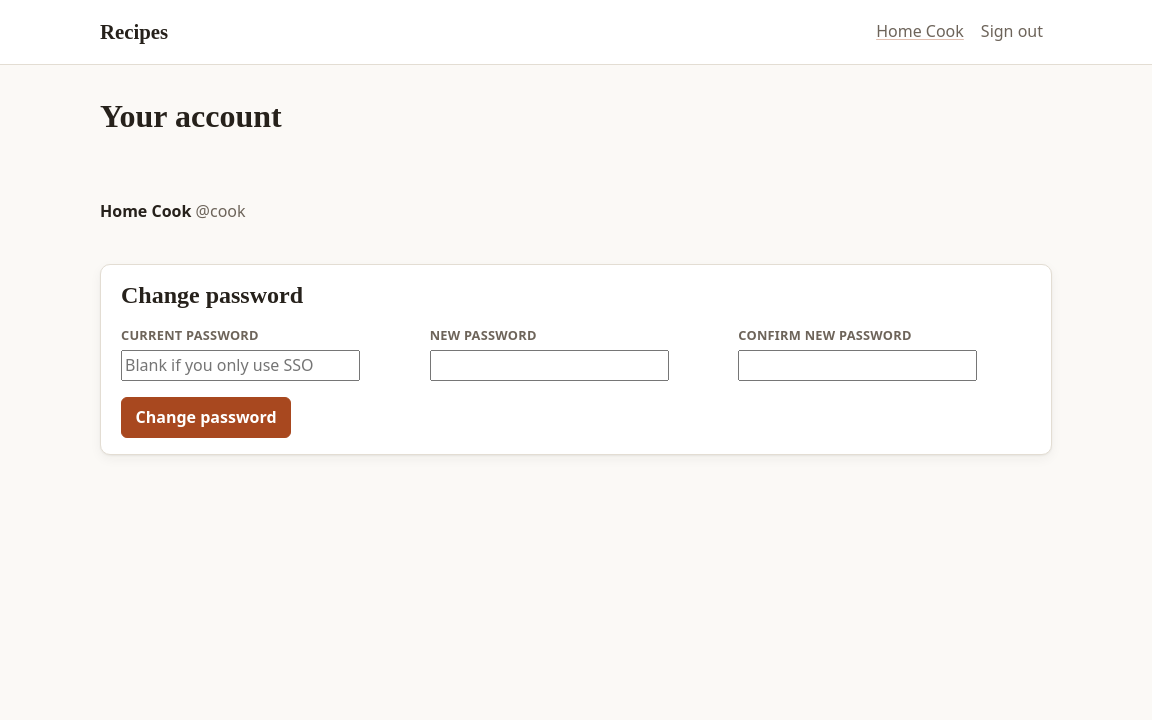
Test: account page › changes your password
This screenshot has width=1152, height=720.
Type "old-password" into the password field labelled "Current password".
click(240, 366); type("old-password")  # box [121,350,360,381]
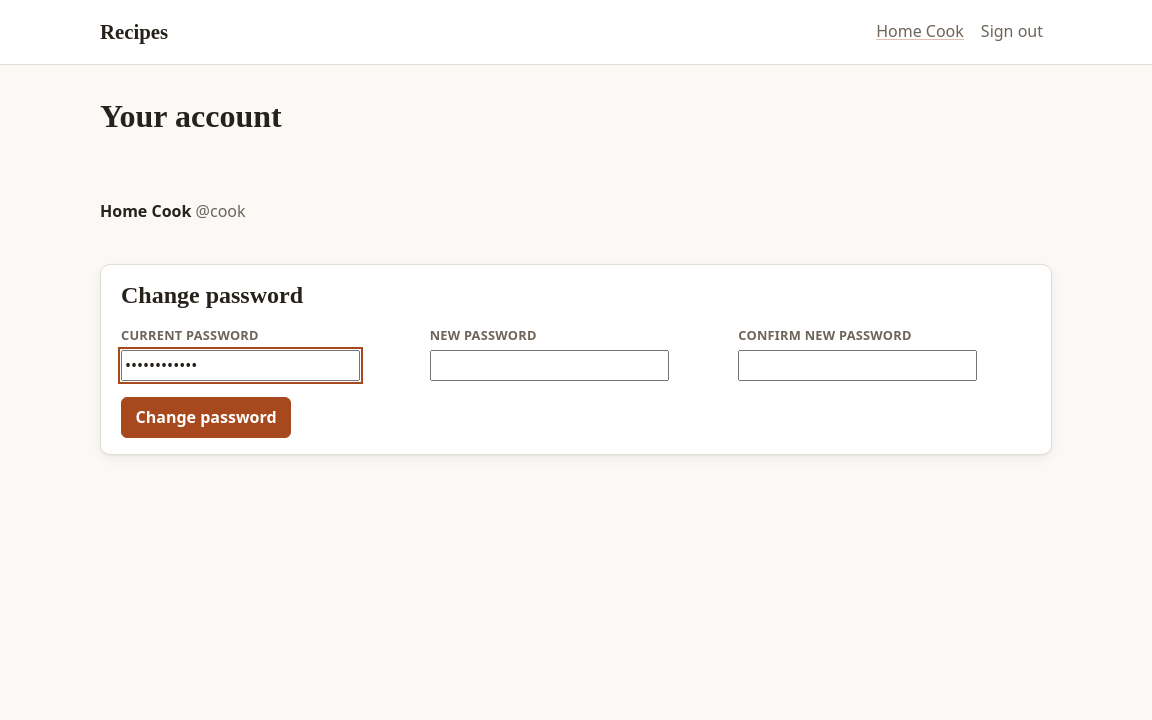
Type "n3w-password" into the password field labelled "New password".
click(549, 366); type("n3w-password")  # box [430,350,669,381]
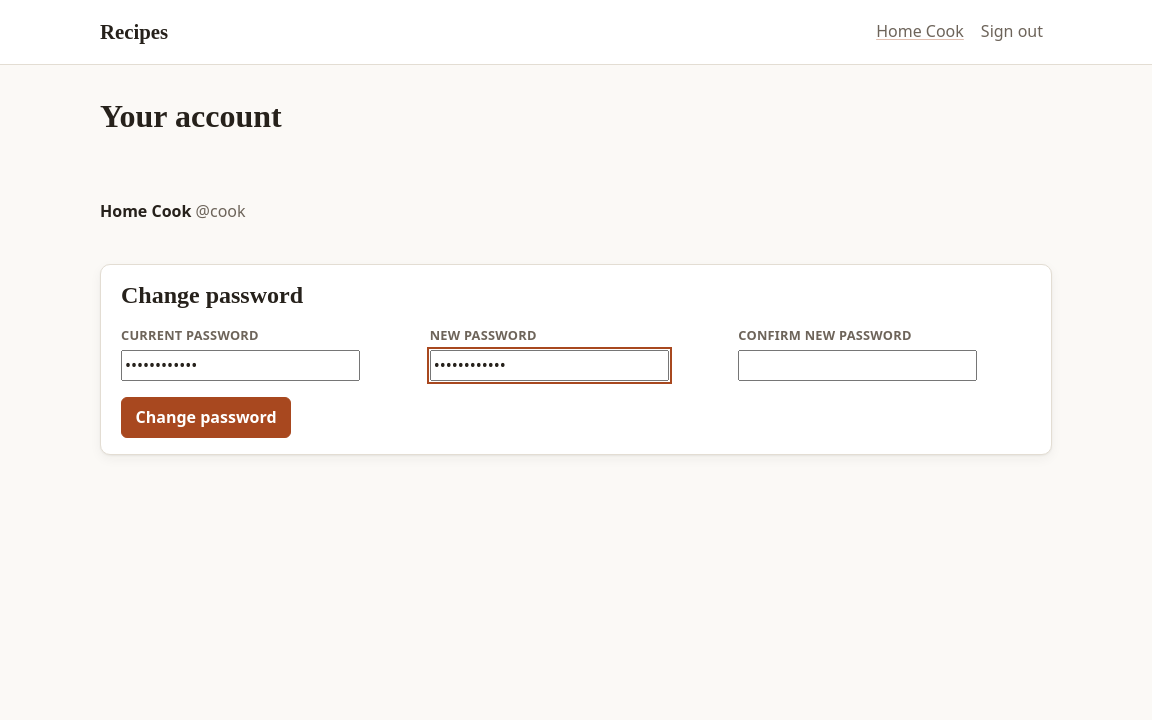
Type "n3w-password" into the password field labelled "Confirm new password".
click(858, 366); type("n3w-password")  # box [738,350,977,381]
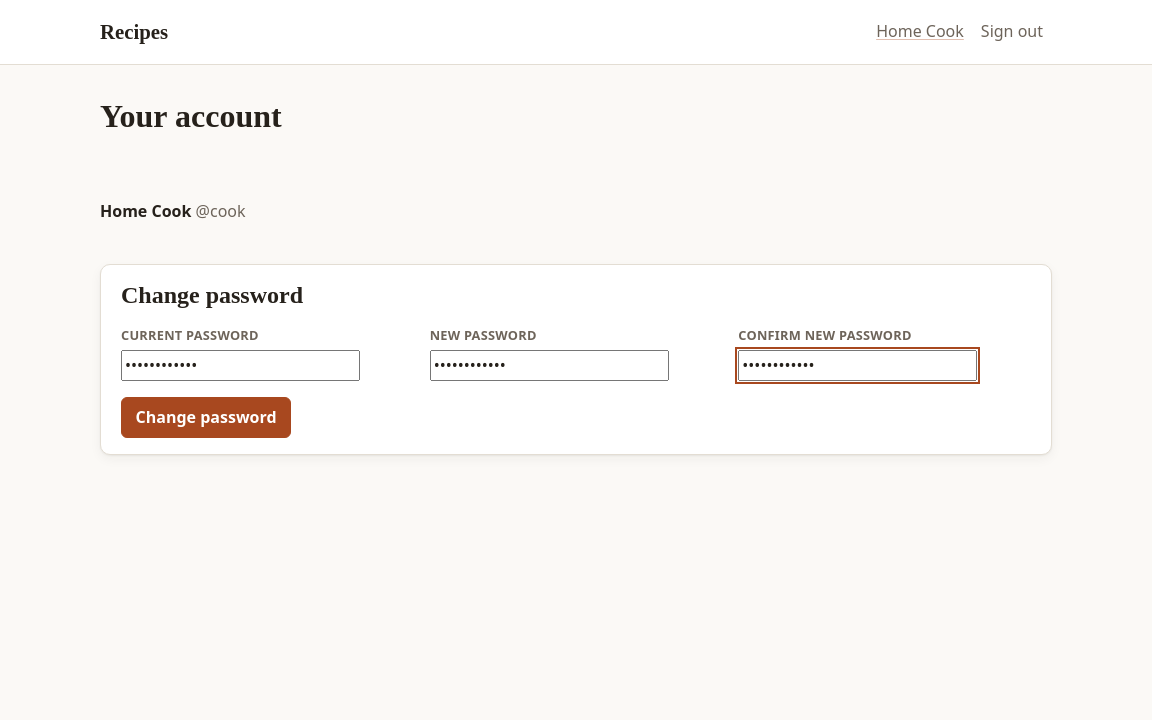
Click the button "Change password".
click(206, 418)  # box [121,397,291,438]
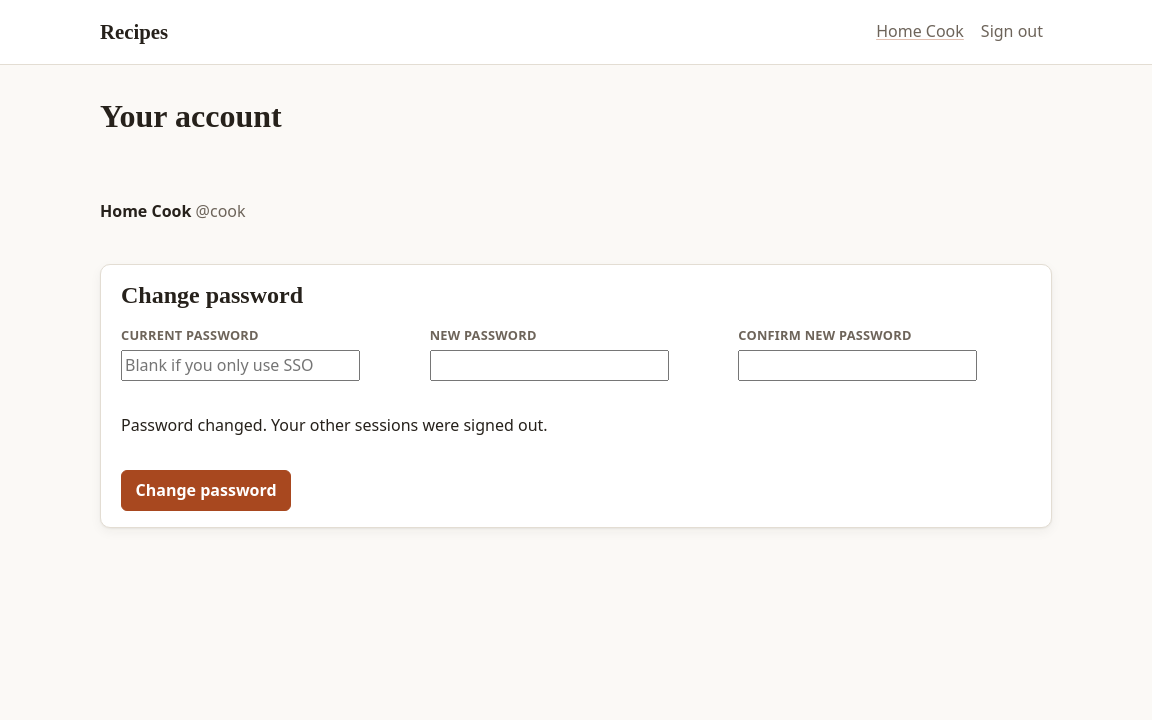
Expected: the message shows "Password changed", [121,414,548,436]
Expected: the password field labelled "New password" is empty, [430,350,669,381]
